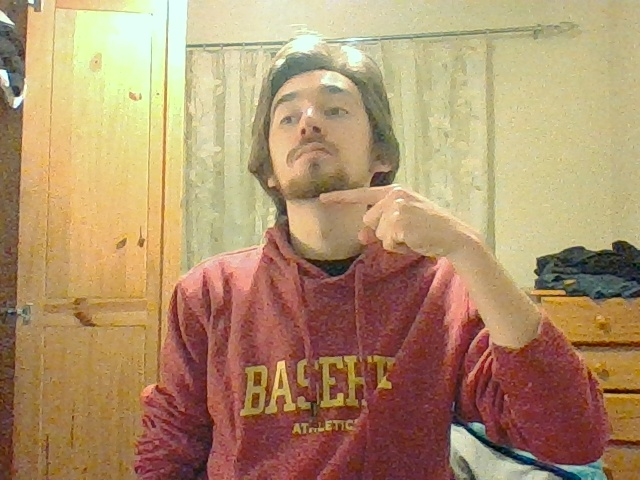son: (319, 183, 427, 251)
